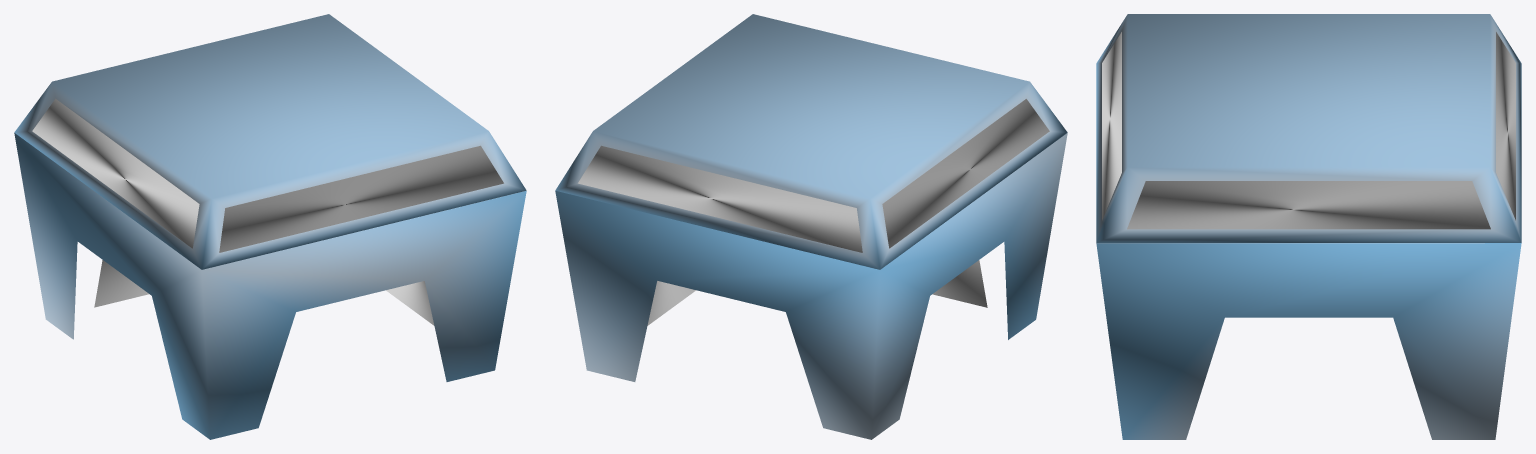
File: hrce.hrc.gltf
3 views of the same model, side by side, from view 1: azimuth 30°, elevation 25°; view 2: azimuth 150°, elevation 25°; view 3: azimuth 270°, elevation 25° (orthographic). The views are drawn at different scales.
Parts seen in each view (by area): view 1: hrceBone1_bone_2, hrceBone0_bone_1; view 2: hrceBone1_bone_2, hrceBone0_bone_1; view 3: hrceBone1_bone_2, hrceBone0_bone_1.
Boxes of the visible parts, left/top/right/bottom form: hrceBone1_bone_2: left=14, top=14, right=526, bottom=269; hrceBone0_bone_1: left=14, top=133, right=526, bottom=439; hrceBone1_bone_2: left=555, top=14, right=1067, bottom=269; hrceBone0_bone_1: left=555, top=133, right=1067, bottom=439; hrceBone1_bone_2: left=1096, top=14, right=1521, bottom=242; hrceBone0_bone_1: left=1096, top=243, right=1521, bottom=439.
Bounding box in the file's own units: 15.26 × 10.72 × 15.26.
